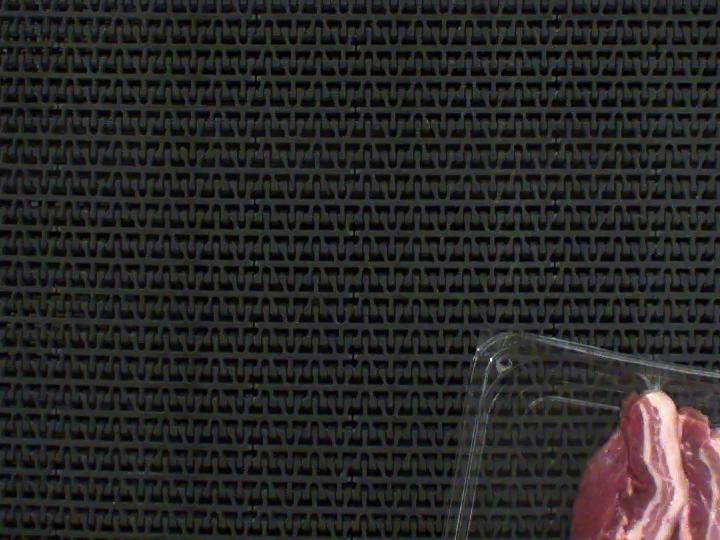packaging-error: (639, 372, 669, 396)
